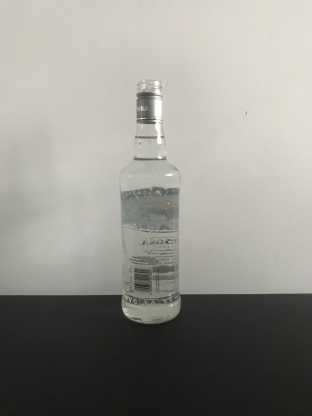nakretka: (133, 78, 165, 124)
